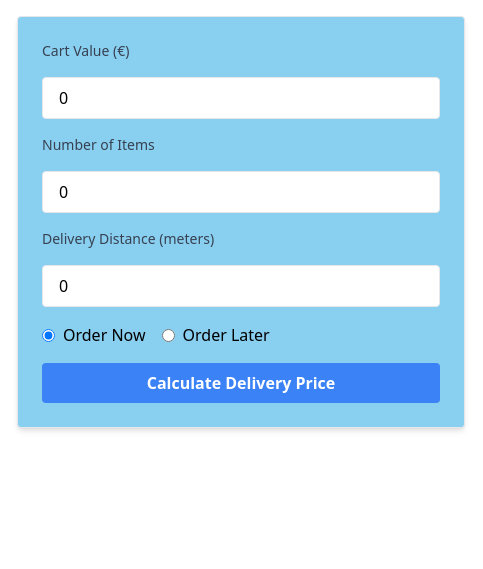
Test: DeliveryFeeCalculator › renders correctly and calculates fees on user interaction
Replace the text in the number field with test id "CartValue" with "20": (241, 98) [42,77,440,119]
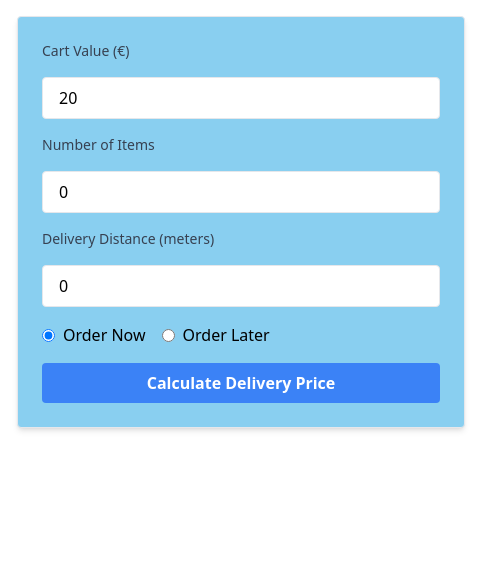
Replace the text in the number field with test id "NumberOfItems" with "3": (241, 192) [42,171,440,213]
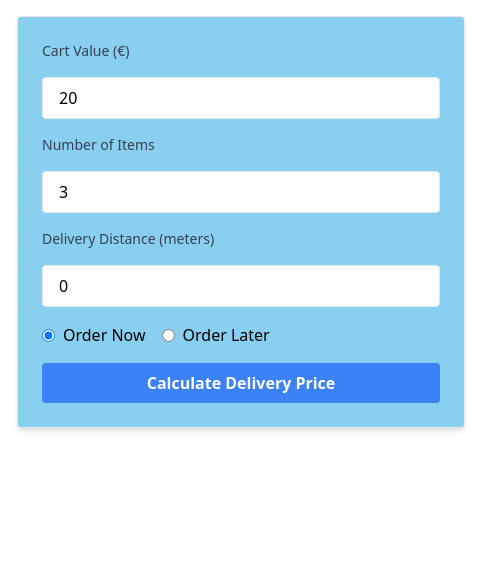
Replace the text in the number field with test id "DeliveryDistance" with "1500": (241, 286) [42,265,440,307]
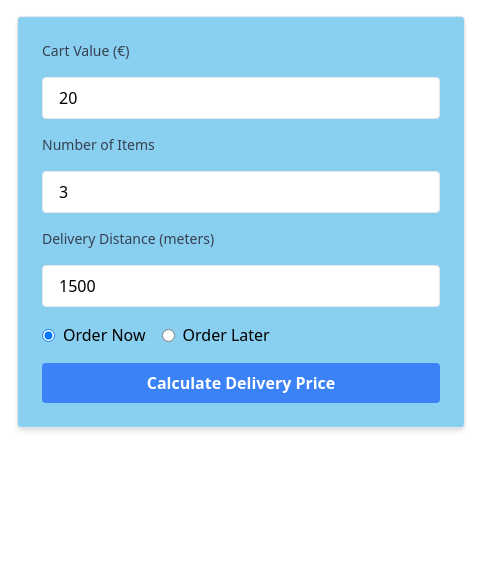
Click the button "Calculate Delivery Price": (241, 383) [42,363,440,403]
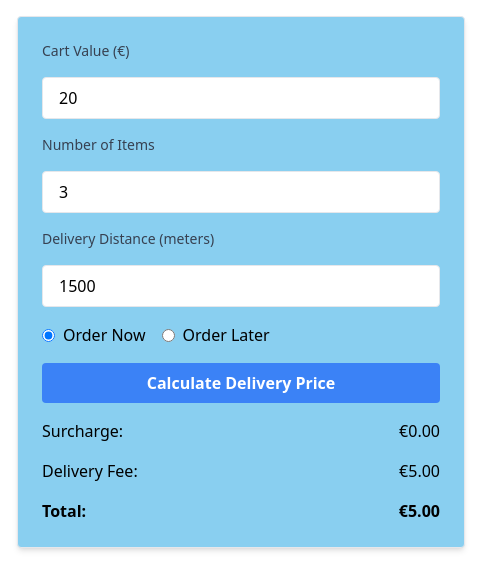
Now the element with test id "TotalDisplay" shows "€", box [399,500,408,522]
